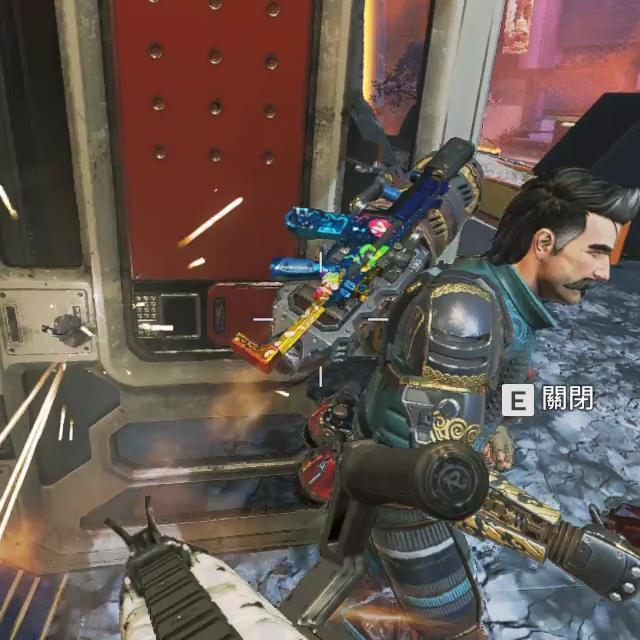avatar: (342, 166, 626, 640)
